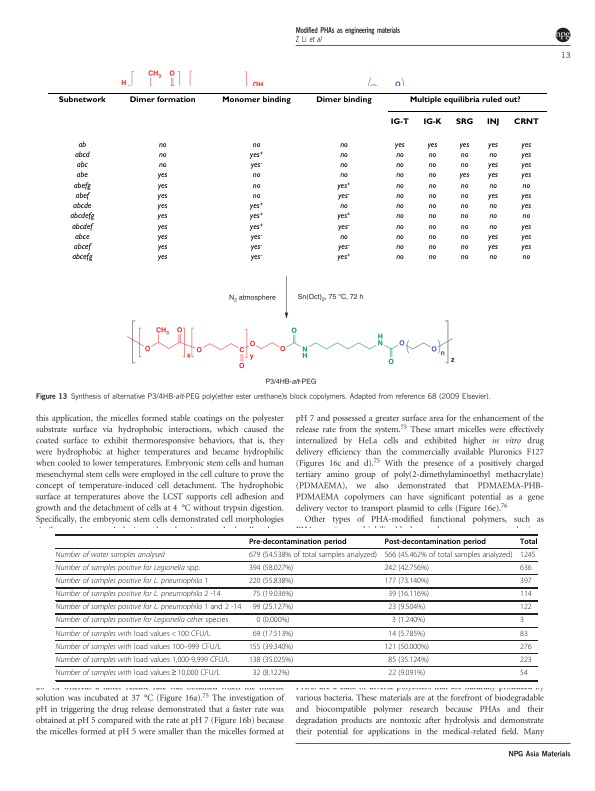borderless: (46, 91, 548, 270), (55, 533, 537, 680)
cell: (55, 655, 231, 665), (55, 603, 242, 612), (55, 642, 222, 652), (55, 589, 221, 599), (55, 668, 221, 678), (55, 616, 229, 625), (55, 576, 209, 586), (55, 563, 201, 573), (55, 629, 211, 638), (248, 550, 378, 560), (383, 550, 513, 560), (55, 550, 166, 560), (408, 96, 521, 105), (383, 537, 487, 546), (248, 537, 347, 546), (221, 96, 291, 105), (128, 96, 196, 105), (315, 96, 372, 105), (383, 563, 430, 573), (383, 576, 430, 586), (383, 642, 430, 652), (248, 563, 294, 573), (248, 576, 294, 586), (248, 642, 294, 652), (248, 655, 294, 665), (57, 96, 106, 105), (387, 589, 430, 599), (387, 655, 430, 665), (252, 589, 294, 599), (387, 668, 426, 678), (252, 668, 290, 678), (252, 603, 294, 612), (252, 629, 294, 638), (387, 603, 426, 612), (387, 629, 426, 638), (255, 616, 290, 625), (391, 616, 426, 625), (513, 118, 539, 127), (69, 212, 95, 221), (70, 222, 93, 232), (71, 253, 93, 262), (72, 181, 91, 191), (389, 118, 409, 127), (422, 118, 442, 127), (454, 118, 474, 127), (72, 202, 92, 211), (72, 243, 91, 252), (519, 537, 538, 546), (73, 150, 90, 160), (73, 232, 90, 242), (519, 550, 536, 560), (74, 191, 90, 201), (249, 150, 264, 160), (336, 181, 351, 191), (249, 222, 264, 232), (249, 232, 263, 242), (519, 563, 533, 573), (519, 576, 533, 586), (519, 589, 533, 599), (519, 642, 533, 652), (519, 655, 533, 665), (485, 118, 500, 127), (249, 202, 264, 211), (249, 212, 264, 221), (336, 212, 351, 221), (336, 253, 351, 262), (337, 191, 350, 201), (337, 222, 350, 232), (249, 161, 263, 170), (249, 243, 263, 252), (249, 253, 263, 262), (519, 603, 533, 612), (426, 140, 438, 150), (458, 140, 470, 150), (520, 140, 532, 150), (520, 150, 532, 160), (156, 181, 168, 191), (156, 191, 168, 201), (520, 191, 532, 201), (156, 222, 168, 232), (520, 222, 532, 232), (156, 232, 168, 242), (520, 232, 532, 242), (75, 161, 88, 170), (75, 171, 88, 180), (337, 243, 350, 252), (394, 140, 405, 150), (487, 140, 498, 150), (487, 191, 498, 201), (487, 232, 498, 242), (520, 161, 532, 170), (156, 171, 168, 180), (458, 171, 470, 180), (520, 171, 532, 180), (156, 202, 168, 211), (520, 202, 532, 211), (156, 212, 168, 221), (156, 243, 168, 252), (520, 243, 532, 252), (156, 253, 168, 262), (77, 140, 87, 150), (157, 140, 167, 150), (251, 140, 261, 150), (157, 150, 167, 160), (427, 150, 437, 160), (459, 150, 469, 160), (251, 181, 261, 191), (427, 181, 437, 191), (459, 181, 469, 191), (521, 181, 531, 191), (251, 191, 261, 201), (427, 191, 437, 201), (459, 191, 469, 201), (427, 222, 437, 232), (459, 222, 469, 232), (427, 232, 437, 242), (459, 232, 469, 242), (519, 668, 529, 678), (487, 161, 498, 170), (487, 171, 498, 180), (487, 243, 498, 252), (339, 140, 348, 150), (339, 150, 348, 160), (395, 150, 404, 160), (488, 150, 497, 160), (157, 161, 167, 170), (427, 161, 437, 170), (459, 161, 469, 170), (251, 171, 261, 180), (427, 171, 437, 180), (395, 181, 404, 191), (488, 181, 497, 191), (395, 191, 404, 201), (427, 202, 437, 211), (459, 202, 469, 211), (427, 212, 437, 221), (459, 212, 469, 221), (521, 212, 531, 221), (395, 222, 404, 232), (488, 222, 497, 232), (339, 232, 348, 242), (395, 232, 404, 242), (427, 243, 437, 252), (459, 243, 469, 252), (427, 253, 437, 262), (459, 253, 469, 262), (521, 253, 531, 262), (519, 629, 529, 638), (339, 161, 348, 170), (395, 161, 404, 170), (339, 171, 348, 180), (395, 171, 404, 180), (339, 202, 348, 211), (395, 202, 404, 211), (488, 202, 497, 211), (395, 212, 404, 221), (488, 212, 497, 221), (395, 243, 404, 252), (395, 253, 404, 262), (488, 253, 497, 262), (519, 616, 525, 625)
